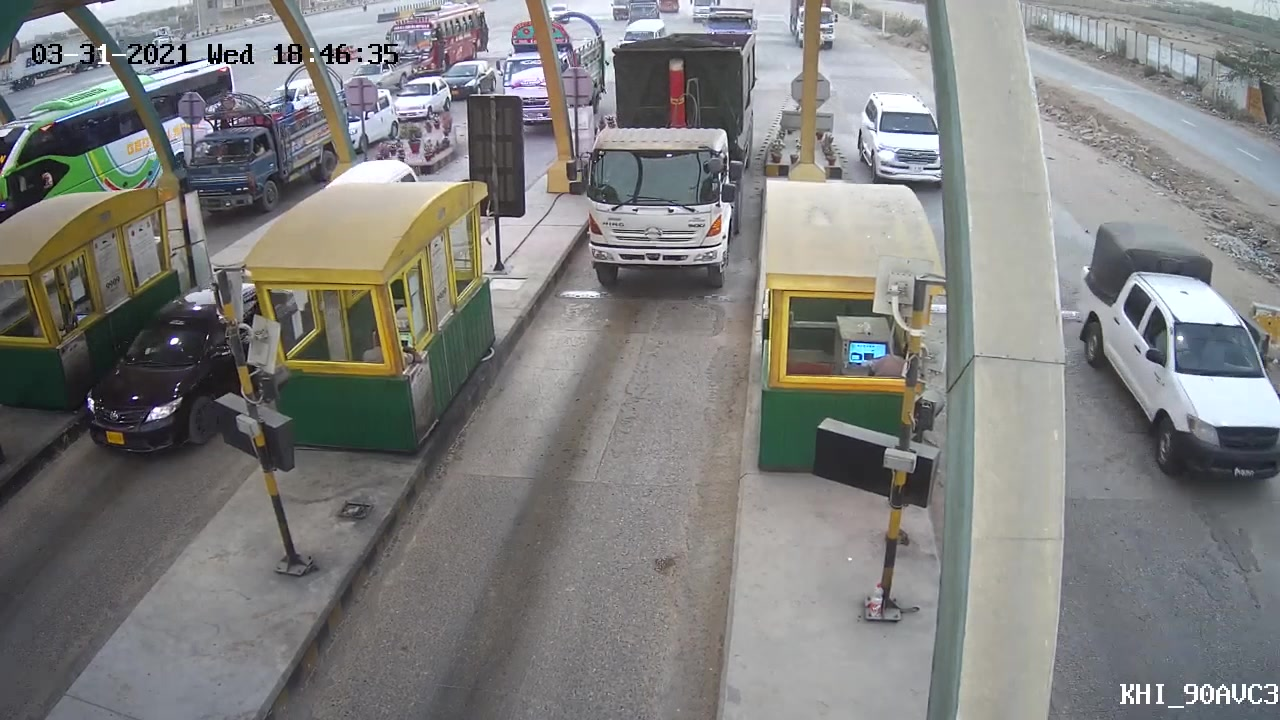F5: (559, 24, 761, 295)
